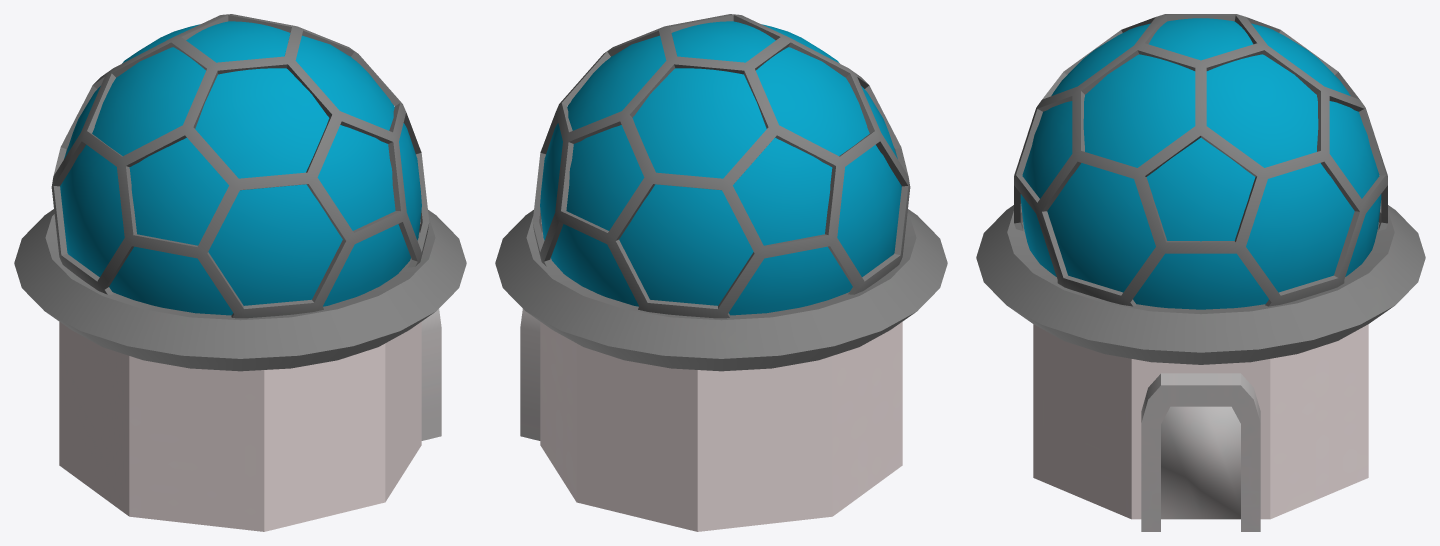
The model's file is casa 7.fbx.
The picture shows the model from 3 angles, left to right: view 1: azimuth 30°, elevation 25°; view 2: azimuth 150°, elevation 25°; view 3: azimuth 270°, elevation 25°; orthographic projection.
Visible parts, largest first — view 1: Sphere.004, Sphere.012, Sphere.011; view 2: Sphere.004, Sphere.012, Sphere.011; view 3: Sphere.004, Sphere.012, Sphere.009, Sphere.011.
Boxes of the visible parts, bbox=[...] form: Sphere.004: bbox=[14, 14, 466, 371]; Sphere.012: bbox=[59, 322, 421, 531]; Sphere.011: bbox=[421, 309, 441, 440]; Sphere.004: bbox=[495, 14, 947, 371]; Sphere.012: bbox=[540, 322, 902, 531]; Sphere.011: bbox=[520, 308, 540, 440]; Sphere.004: bbox=[976, 14, 1425, 364]; Sphere.012: bbox=[1033, 324, 1368, 519]; Sphere.009: bbox=[1161, 406, 1240, 519]; Sphere.011: bbox=[1141, 373, 1260, 531].
Size of the model in its own units: 1049 by 1074 by 1049.
1 material, 1 textured.
